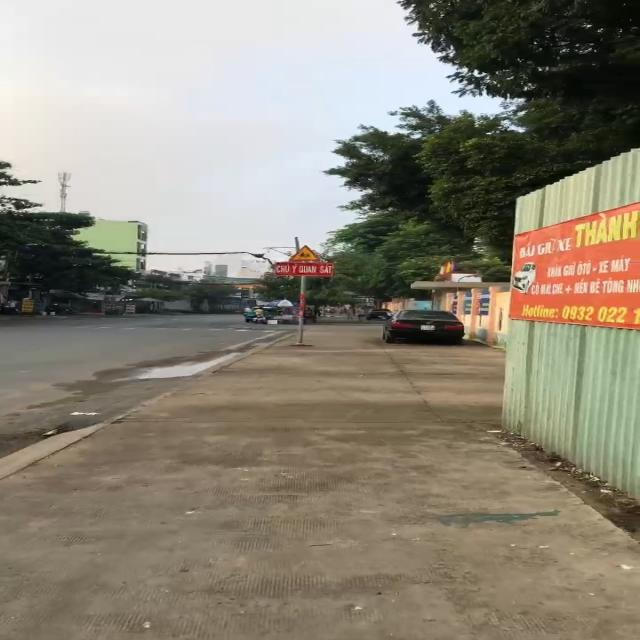Bien bao tre em: (286, 244, 324, 262)
